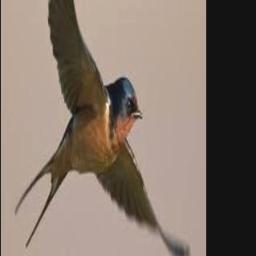Swallow: (15, 0, 193, 256)
